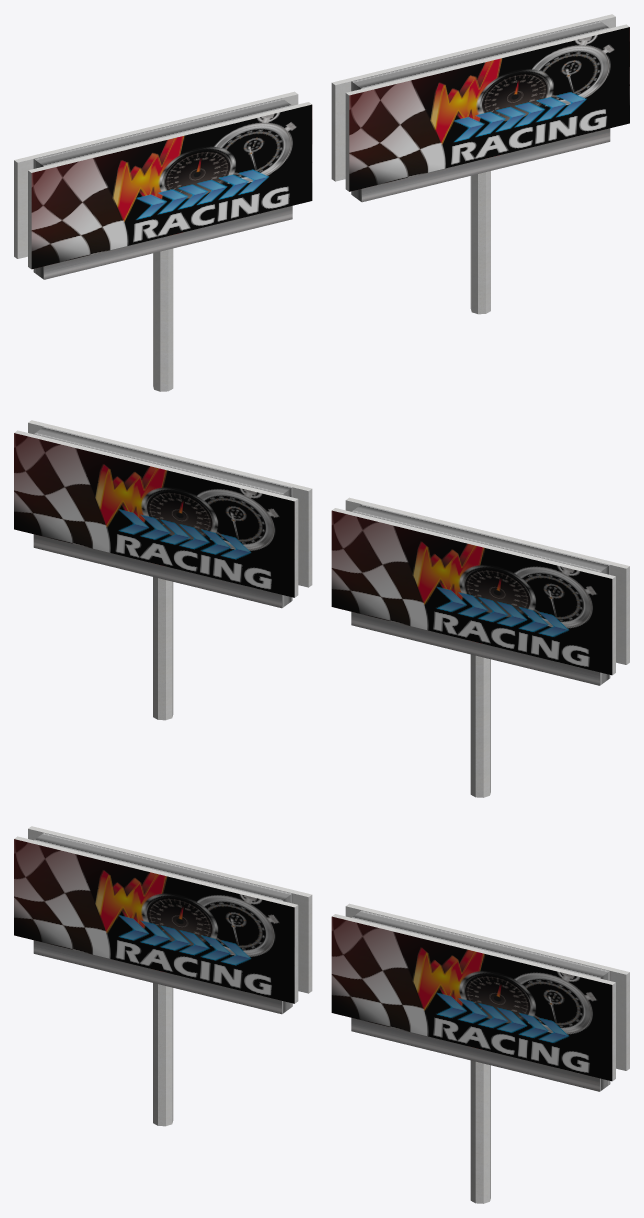
The model's file is Billboards04.fbx.
The picture shows the model from 3 angles, top to bottom: view 1: azimuth 30°, elevation 25°; view 2: azimuth 150°, elevation 25°; view 3: azimuth 330°, elevation 25°; orthographic projection.
Visible parts, largest first — view 1: Empty_Mesh; view 2: Empty_Mesh; view 3: Empty_Mesh.
Boxes of the visible parts, <box> form: Empty_Mesh: <box>14,14,629,391</box>; Empty_Mesh: <box>14,420,629,797</box>; Empty_Mesh: <box>14,826,629,1203</box>.
Size of the model in its own units: 60.28 by 24.57 by 3.07.
